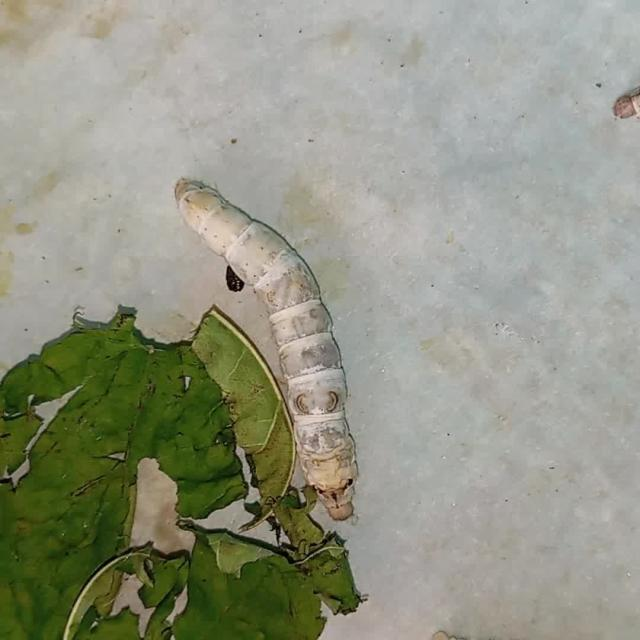Grasserie: (162, 162, 372, 531)
